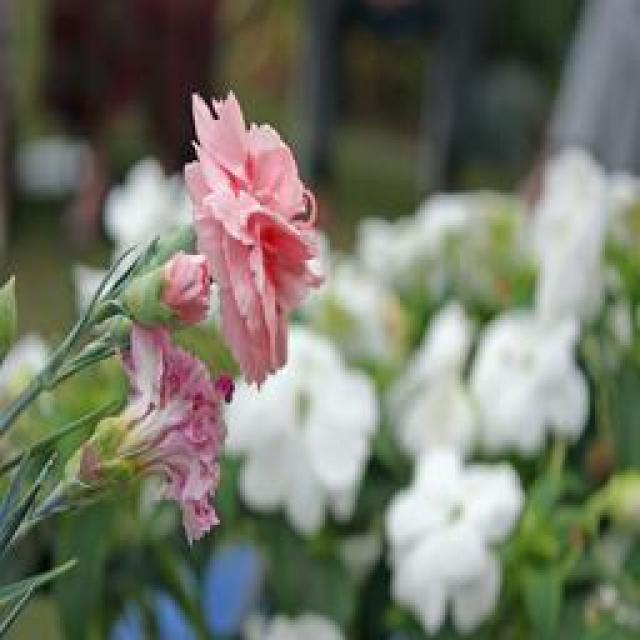carnation: (169, 67, 336, 391)
